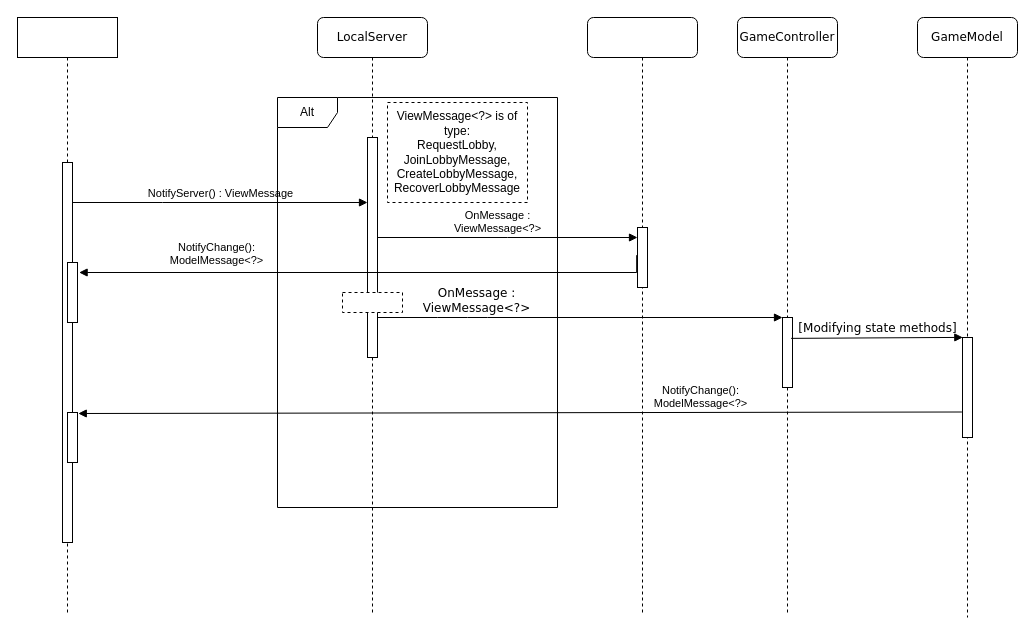
This 1035x635 diagram has some shape labels left out. Here are the shapes that lost their labels. From the top down, the centre of each, then its label:
At point (67, 314): "Client".
At point (372, 302): "Else".
At point (642, 314): "LobbyController".
